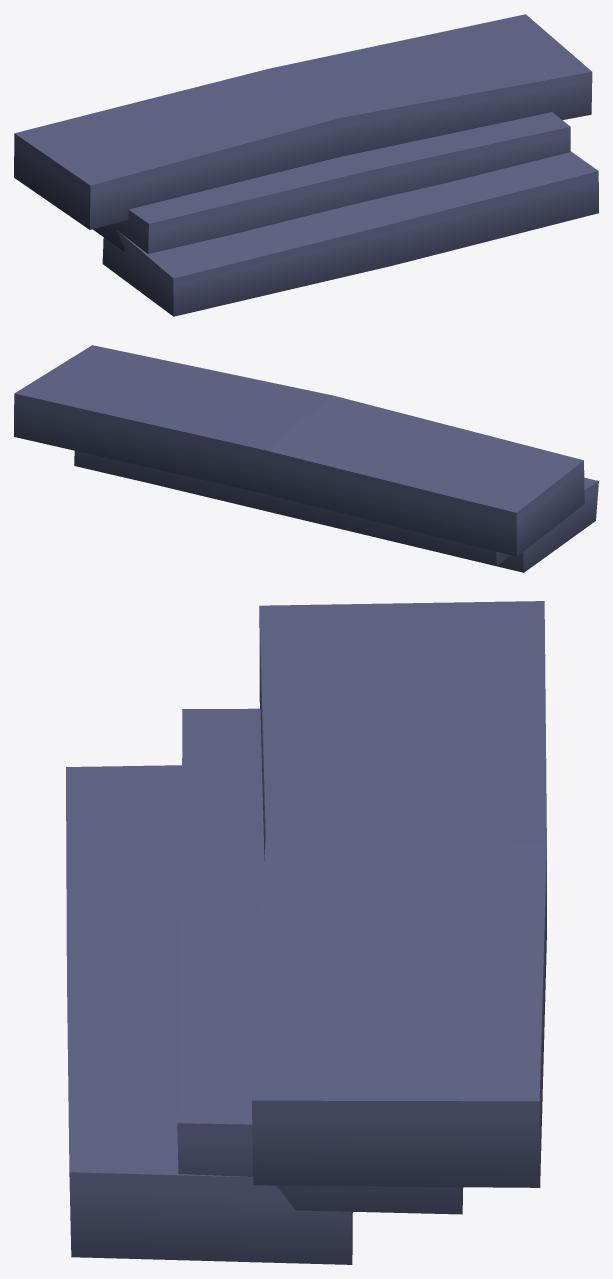
The model's file is Stairs.fbx.
3 renders of one model, top to bottom at view 1: azimuth 30°, elevation 25°; view 2: azimuth 150°, elevation 25°; view 3: azimuth 270°, elevation 25°, orthographic. The views are drawn at different scales.
Parts seen in each view (by area): view 1: Stairs.001; view 2: Stairs.001; view 3: Stairs.001.
Part boxes in pixels (left/top/right/bottom): Stairs.001: left=14, top=14, right=598, bottom=316; Stairs.001: left=14, top=345, right=598, bottom=572; Stairs.001: left=66, top=601, right=546, bottom=1264.
Size of the model in its own units: 153 by 32.51 by 63.41.
